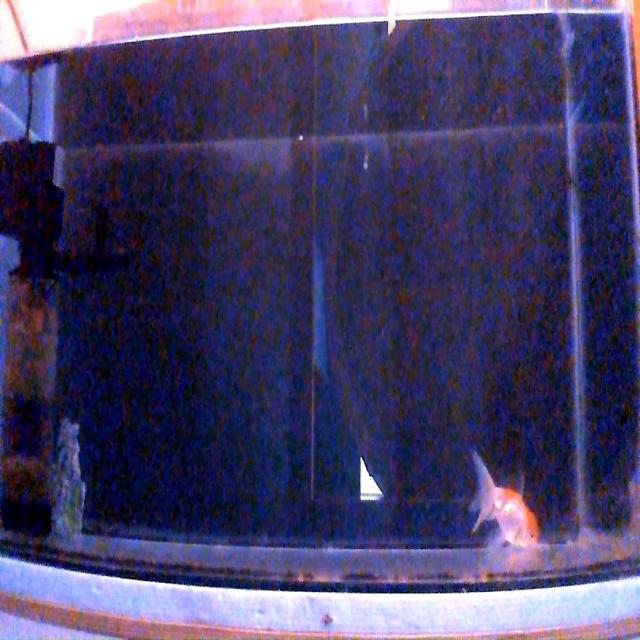fish: (468, 447, 538, 549)
